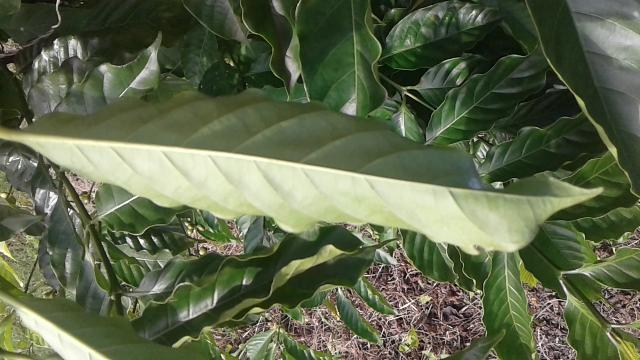healthy: (20, 85, 610, 255)
